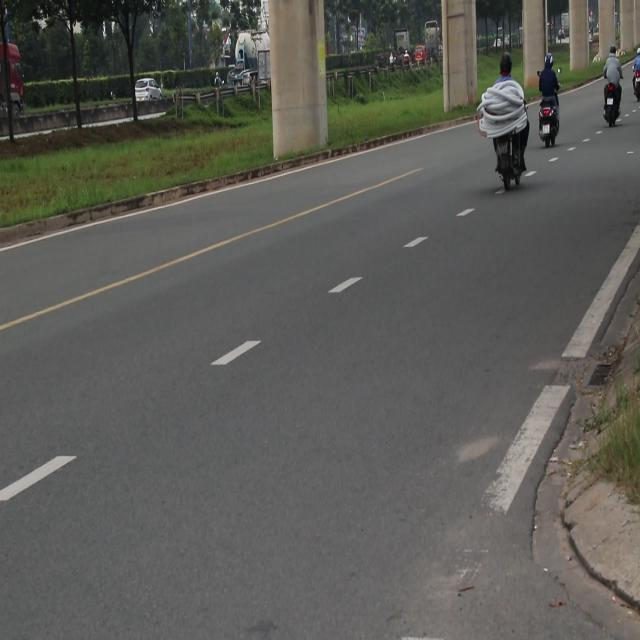car: (134, 79, 164, 102)
motorbike: (486, 120, 523, 190), (537, 93, 562, 150), (602, 80, 622, 128)
truck: (0, 40, 26, 158), (246, 52, 278, 106)
